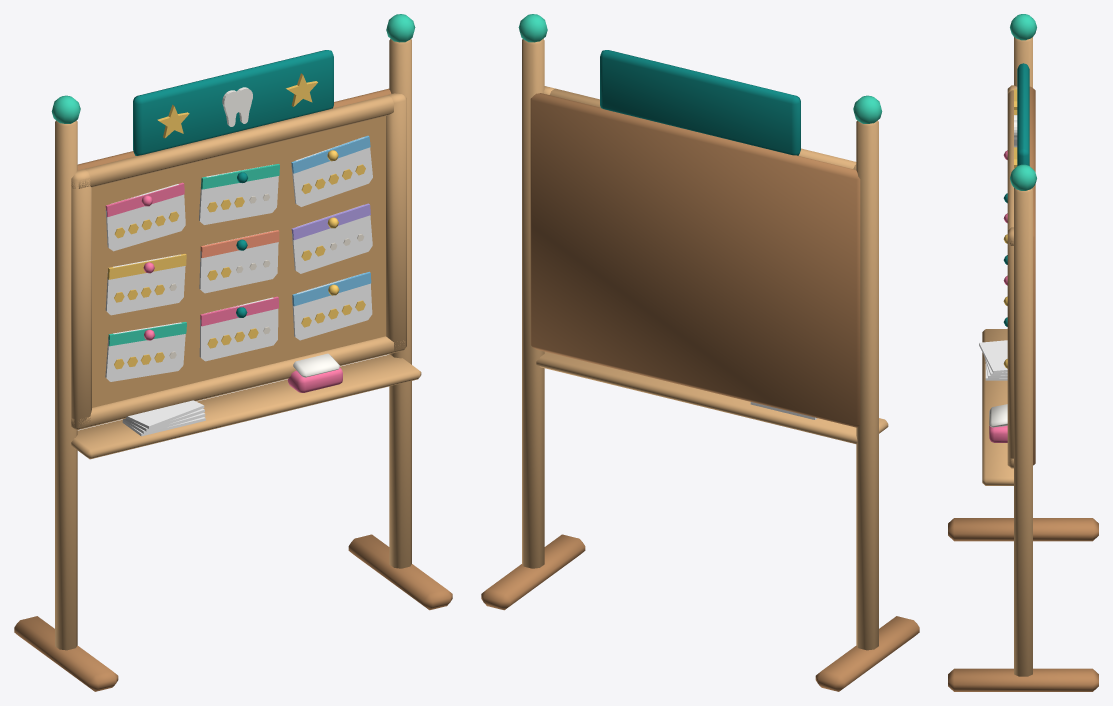
Rendered from loyalty_board.glb.
The picture shows the model from 3 angles, left to right: view 1: azimuth 30°, elevation 25°; view 2: azimuth 150°, elevation 25°; view 3: azimuth 270°, elevation 25°; orthographic projection. The views are drawn at different scales.
Visible parts, largest first — view 1: LoyaltyBoard; view 2: LoyaltyBoard; view 3: LoyaltyBoard.
Part boxes in pixels (x1,y1,x2,y2): LoyaltyBoard: (14, 14, 452, 691); LoyaltyBoard: (481, 14, 919, 691); LoyaltyBoard: (948, 14, 1098, 691).
Size of the model in its own units: 1.13 by 1.68 by 0.44.
